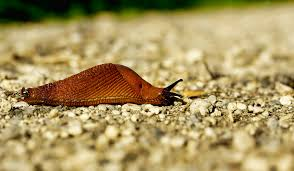slug: (22, 62, 187, 108)
